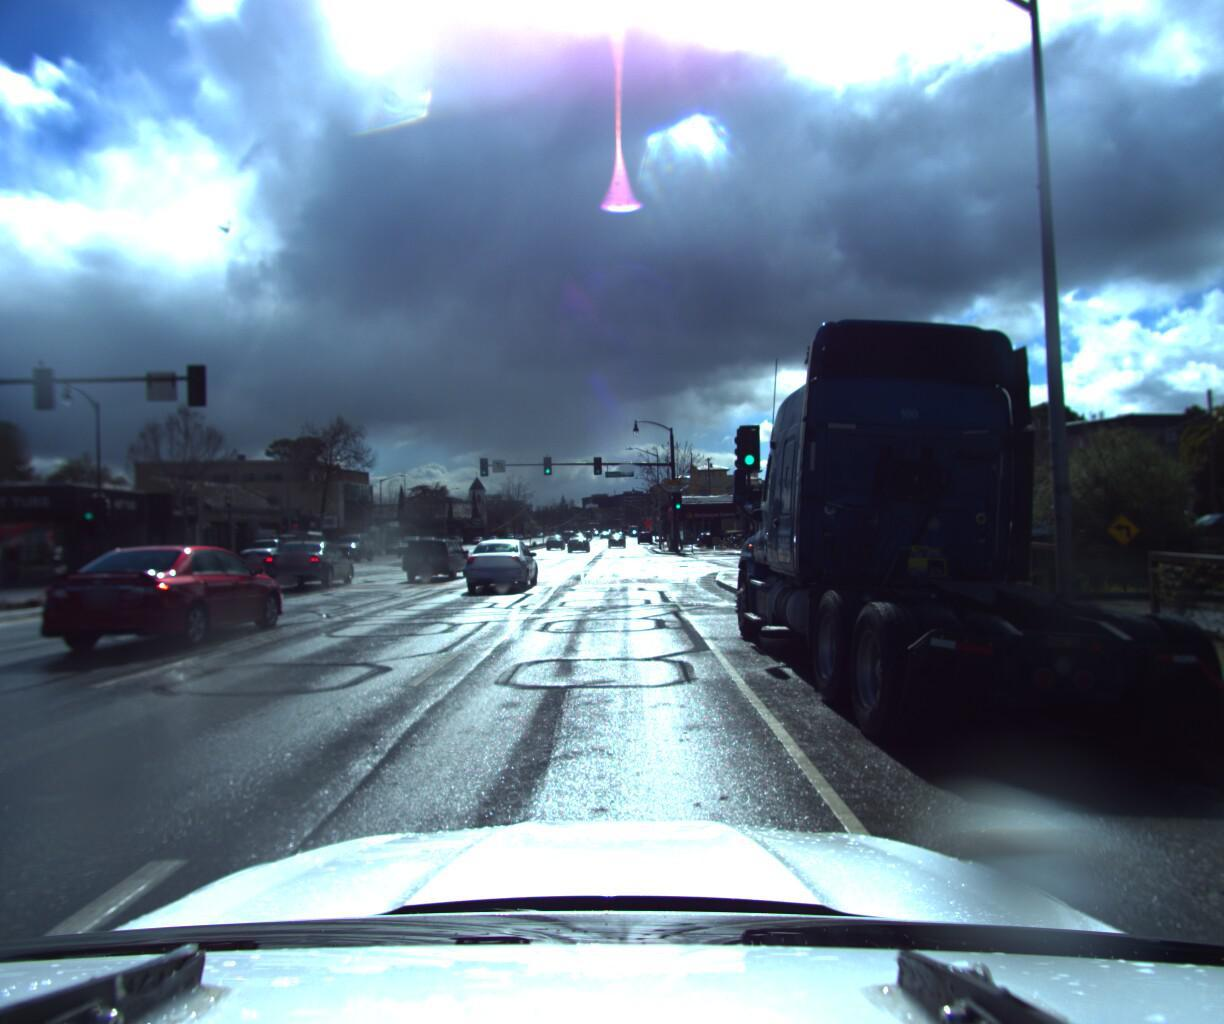bicycle: (713, 528, 741, 545), (715, 528, 742, 545)
car: (45, 536, 304, 657), (458, 532, 545, 593), (264, 536, 362, 590), (400, 533, 475, 579), (233, 531, 307, 569), (566, 528, 591, 548), (542, 530, 567, 547), (604, 529, 623, 545)
other_vehicle: (271, 527, 332, 565)
truck: (724, 192, 1224, 770)
